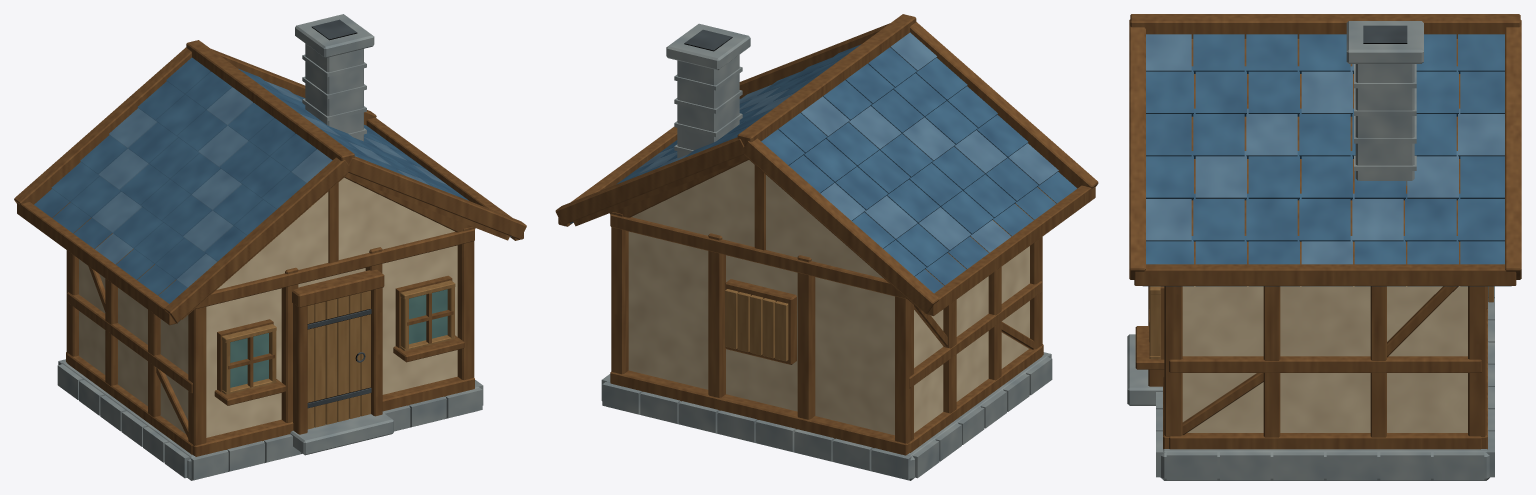
The model's file is hut.glb.
3 views of the same model, side by side, from view 1: azimuth 30°, elevation 25°; view 2: azimuth 150°, elevation 25°; view 3: azimuth 270°, elevation 25° (orthographic). The views are drawn at different scales.
Visible parts, largest first — view 1: CampHut_Mesh; view 2: CampHut_Mesh; view 3: CampHut_Mesh.
Boxes of the visible parts, x1,y1,x2,y2 form: CampHut_Mesh: [14, 14, 526, 480]; CampHut_Mesh: [555, 14, 1098, 480]; CampHut_Mesh: [1127, 14, 1521, 480].
Bounding box in the file's own units: 5.6 × 4.95 × 4.28.
Materials: 1 (1 with a texture image).
